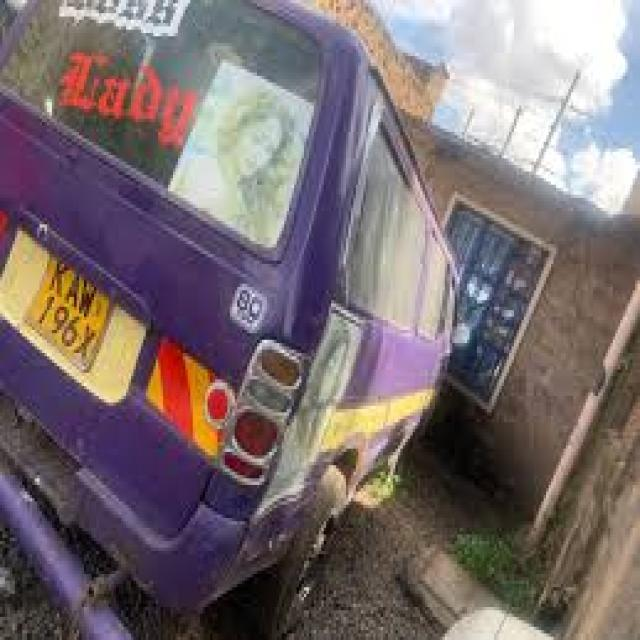matatu: (4, 0, 524, 640)
